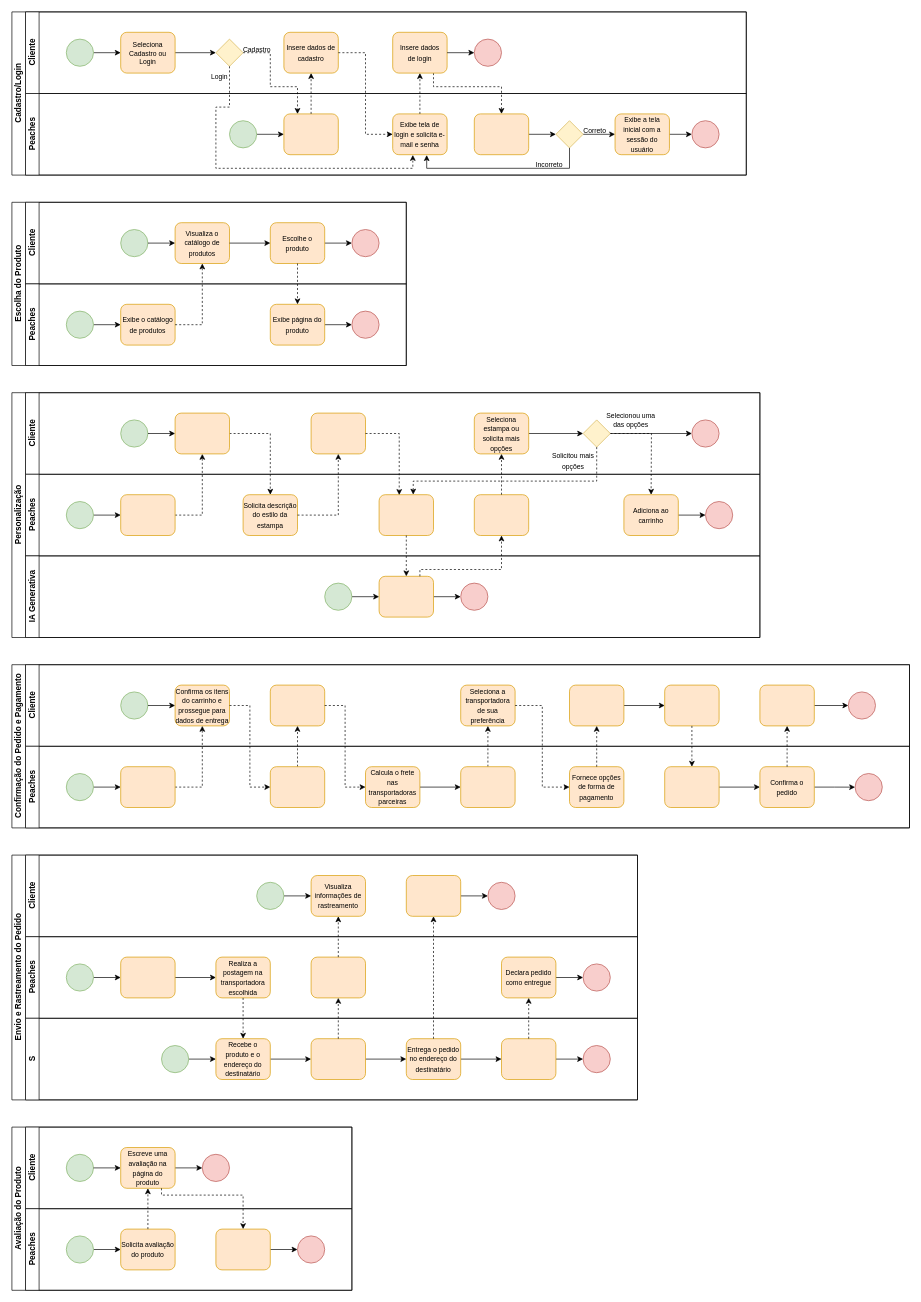
Image size: 921x1302. Some labels were removed from this diagram. The centre of each missing label's shape, as x and y in pixels:
Confecciona o produto: the point at 147,977
Cria 5 estampas com a descrição dada: the point at 406,596
Exibe avaliação na página do produto: the point at 242,1249
Exibe informações de rastreamento: the point at 338,977
Exibe o carrinho: the point at 147,787
Exibe opções de transportadoras com os valores de frete: the point at 487,787
Fornece informações de rastreamento: the point at 338,1059
Fornece opções de cor e tamanho para o produto: the point at 147,515
Insere dados de entrega (endereço e destinatário): the point at 297,705
Insere dados de pagamento: the point at 691,705
Insere descrição do estilo da estampa: the point at 338,433
Notifica que o produto foi entregue: the point at 528,1059
Realiza a transação: the point at 691,787
Recebe confirmação do pedido: the point at 786,705
Recebe o pedido da transportadora: the point at 433,895
Seleciona cor e tamanho: the point at 202,433
Seleciona forma de pagamento: the point at 596,705
Solicita Dados (e-mail, senha, nome, CPF, etc.): the point at 310,134
Solicita dados de entrega (endereço e destinatário): the point at 297,787
Solicita escolha da estampa para o usuário: the point at 501,515
Solicita estampas para IA: the point at 406,515
Valida e-mail e senha: the point at 501,134
